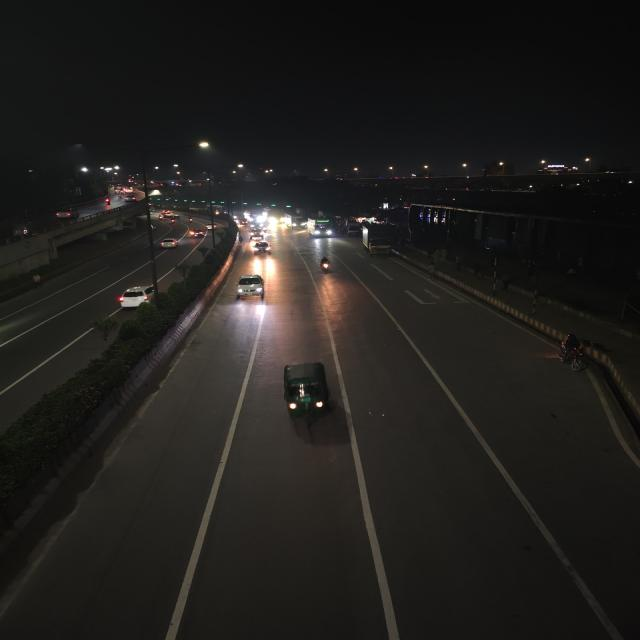bus: (309, 217, 335, 239), (287, 214, 308, 230)
car: (113, 284, 156, 310), (232, 272, 268, 300), (158, 236, 180, 249), (54, 209, 76, 221), (252, 240, 272, 253), (249, 228, 265, 240), (190, 228, 205, 240), (122, 193, 138, 201)
cng: (269, 358, 339, 431)
motorcycle: (554, 331, 591, 373), (317, 255, 334, 275), (102, 197, 113, 207), (186, 216, 195, 224)
pedestrian: (425, 262, 439, 280)
truck: (361, 222, 394, 257), (345, 220, 363, 237)
